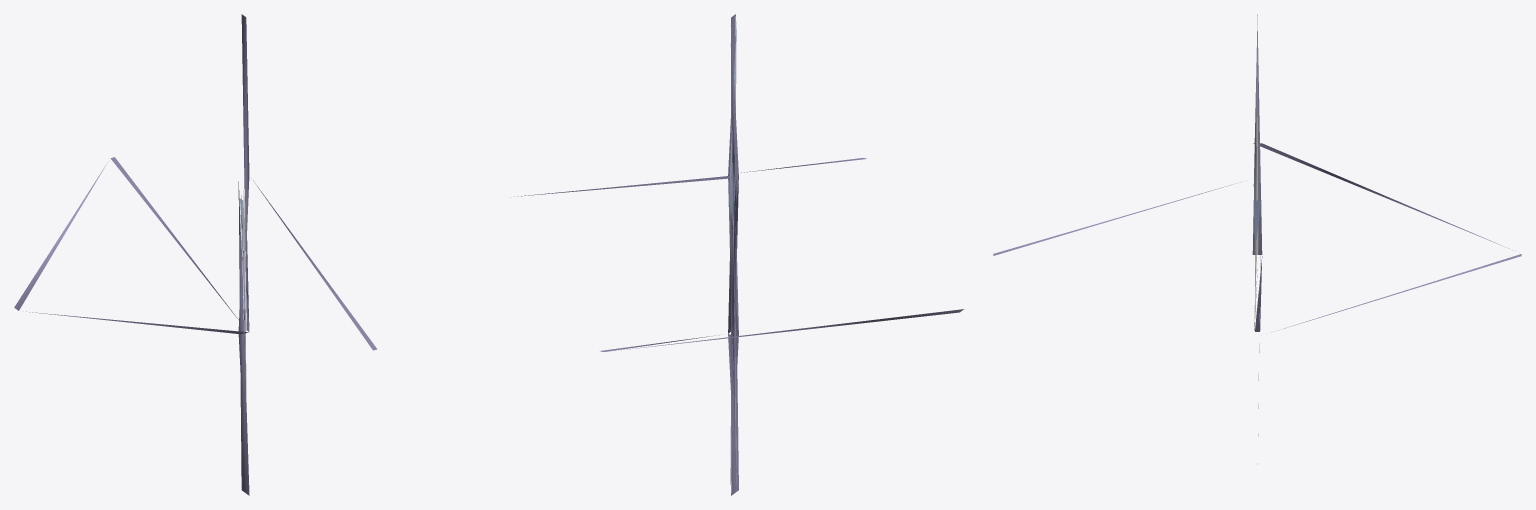
The model's file is equip_weapon_magic_longbow.glb.
3 views of the same model, side by side, from view 1: azimuth 30°, elevation 25°; view 2: azimuth 150°, elevation 25°; view 3: azimuth 270°, elevation 25° (orthographic).
Parts seen in each view (by area): view 1: equip_weapon_magic_longbow; view 2: equip_weapon_magic_longbow; view 3: equip_weapon_magic_longbow.
Boxes of the visible parts, x1,y1,x2,y2 form: equip_weapon_magic_longbow: [14, 14, 377, 495]; equip_weapon_magic_longbow: [510, 14, 963, 495]; equip_weapon_magic_longbow: [993, 14, 1521, 464].
Bounding box in the file's own units: 2 × 2 × 2.
